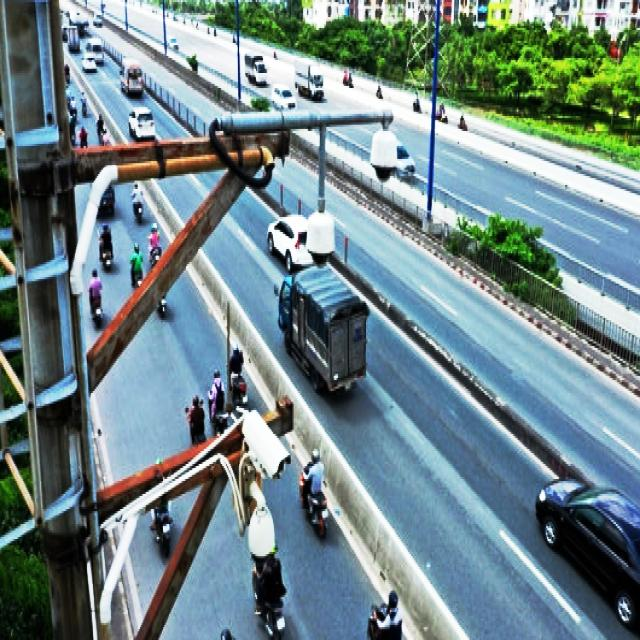Car: (536, 474, 640, 636), (274, 263, 368, 392), (267, 212, 314, 270), (372, 140, 416, 170), (129, 105, 156, 140), (120, 58, 144, 94), (245, 52, 269, 84), (272, 84, 297, 107), (86, 36, 105, 62), (70, 8, 89, 34), (254, 60, 268, 84), (83, 51, 97, 71), (94, 11, 103, 26)
